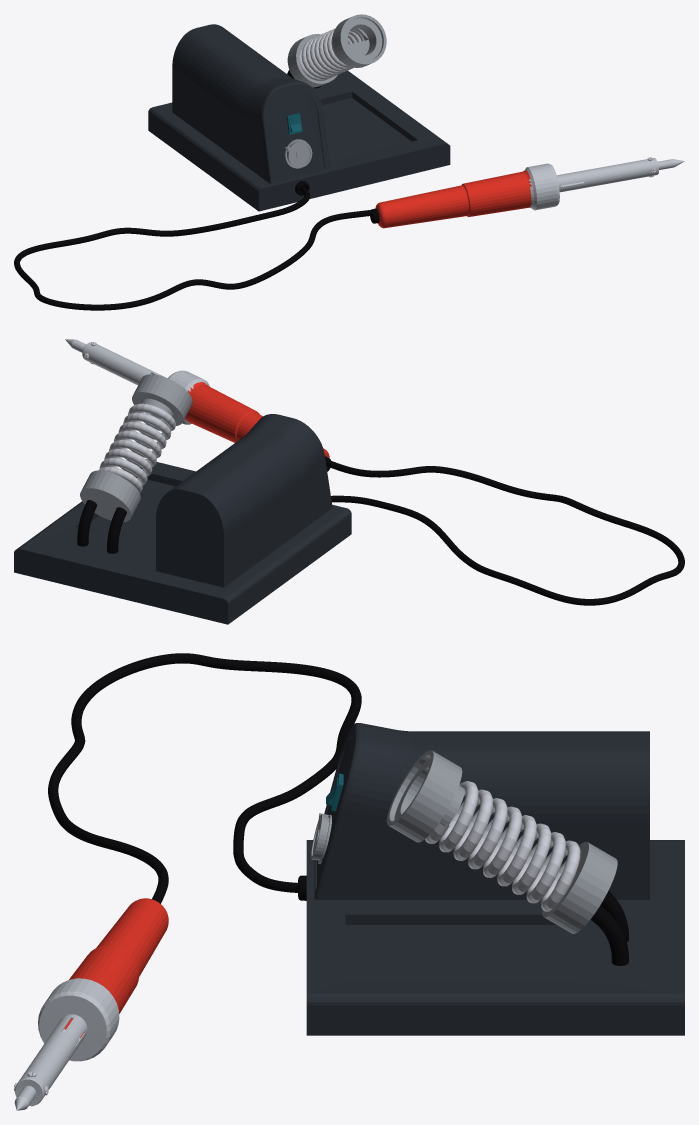
File: iron-station.glb
The picture shows the model from 3 angles, top to bottom: view 1: azimuth 30°, elevation 25°; view 2: azimuth 150°, elevation 25°; view 3: azimuth 270°, elevation 25°; orthographic projection. The views are drawn at different scales.
Visible parts, largest first — view 1: Cube.001, Solder_Station_Cube, Soldering_Iron_Cylinder, NurbsPath.002, Cylinder.001_Cylinder.003, Spring_Circle.001, Cylinder_Cylinder.001, Cylinder.002_Cylinder.004; view 2: Cube.001, Solder_Station_Cube, NurbsPath.002, Soldering_Iron_Cylinder, Spring_Circle.001, Cylinder_Cylinder.001, Cylinder.001_Cylinder.003, NurbsPath, NurbsPath.001; view 3: Solder_Station_Cube, Cube.001, Soldering_Iron_Cylinder, Spring_Circle.001, NurbsPath.002, Cylinder.001_Cylinder.003, Cylinder_Cylinder.001, NurbsPath.001, Cylinder.002_Cylinder.004.
Boxes of the visible parts, bbox=[...] form: Cube.001: bbox=[172, 24, 330, 183]; Solder_Station_Cube: bbox=[148, 70, 450, 211]; Soldering_Iron_Cylinder: bbox=[375, 158, 684, 228]; NurbsPath.002: bbox=[14, 186, 371, 310]; Cylinder.001_Cylinder.003: bbox=[332, 14, 386, 67]; Spring_Circle.001: bbox=[299, 28, 364, 80]; Cylinder_Cylinder.001: bbox=[287, 34, 337, 87]; Cylinder.002_Cylinder.004: bbox=[285, 139, 312, 168]; Cube.001: bbox=[156, 414, 332, 587]; Solder_Station_Cube: bbox=[14, 459, 351, 624]; NurbsPath.002: bbox=[325, 459, 684, 605]; Soldering_Iron_Cylinder: bbox=[65, 339, 329, 458]; Spring_Circle.001: bbox=[99, 403, 175, 493]; Cylinder_Cylinder.001: bbox=[80, 470, 140, 522]; Cylinder.001_Cylinder.003: bbox=[132, 374, 192, 425]; NurbsPath: bbox=[107, 507, 126, 553]; NurbsPath.001: bbox=[77, 500, 97, 546]; Solder_Station_Cube: bbox=[306, 840, 684, 1035]; Cube.001: bbox=[314, 723, 649, 899]; Soldering_Iron_Cylinder: bbox=[14, 898, 168, 1110]; Spring_Circle.001: bbox=[425, 781, 580, 911]; NurbsPath.002: bbox=[48, 653, 361, 903]; Cylinder.001_Cylinder.003: bbox=[386, 750, 464, 842]; Cylinder_Cylinder.001: bbox=[542, 841, 617, 933]; NurbsPath.001: bbox=[590, 906, 628, 965]; Cylinder.002_Cylinder.004: bbox=[310, 813, 331, 863].
Size of the model in its own units: 13.62 by 2.97 by 7.73.
